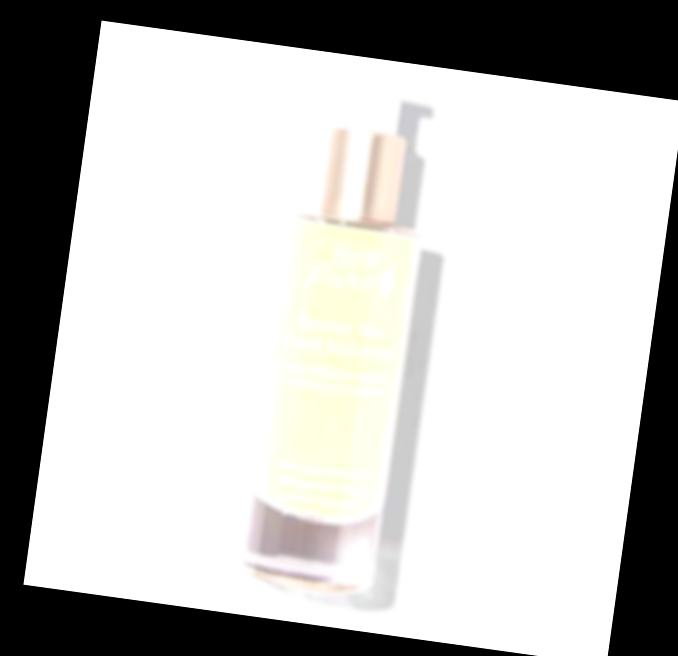cosmetic: (236, 73, 442, 589)
